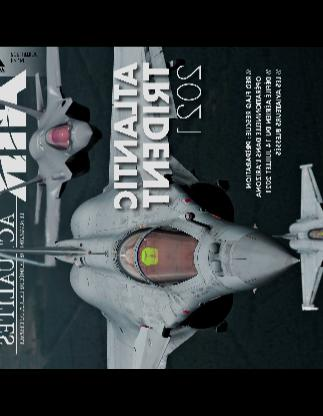F22: (0, 46, 100, 267)
RQ4: (0, 46, 299, 370), (270, 162, 322, 311)
